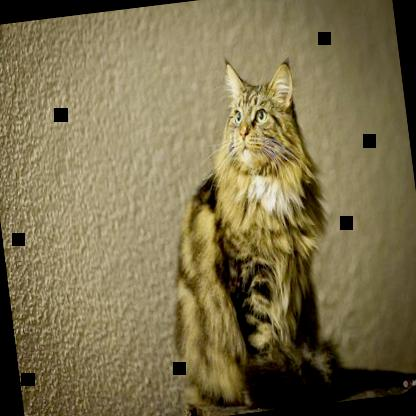cat: (146, 49, 340, 408)
